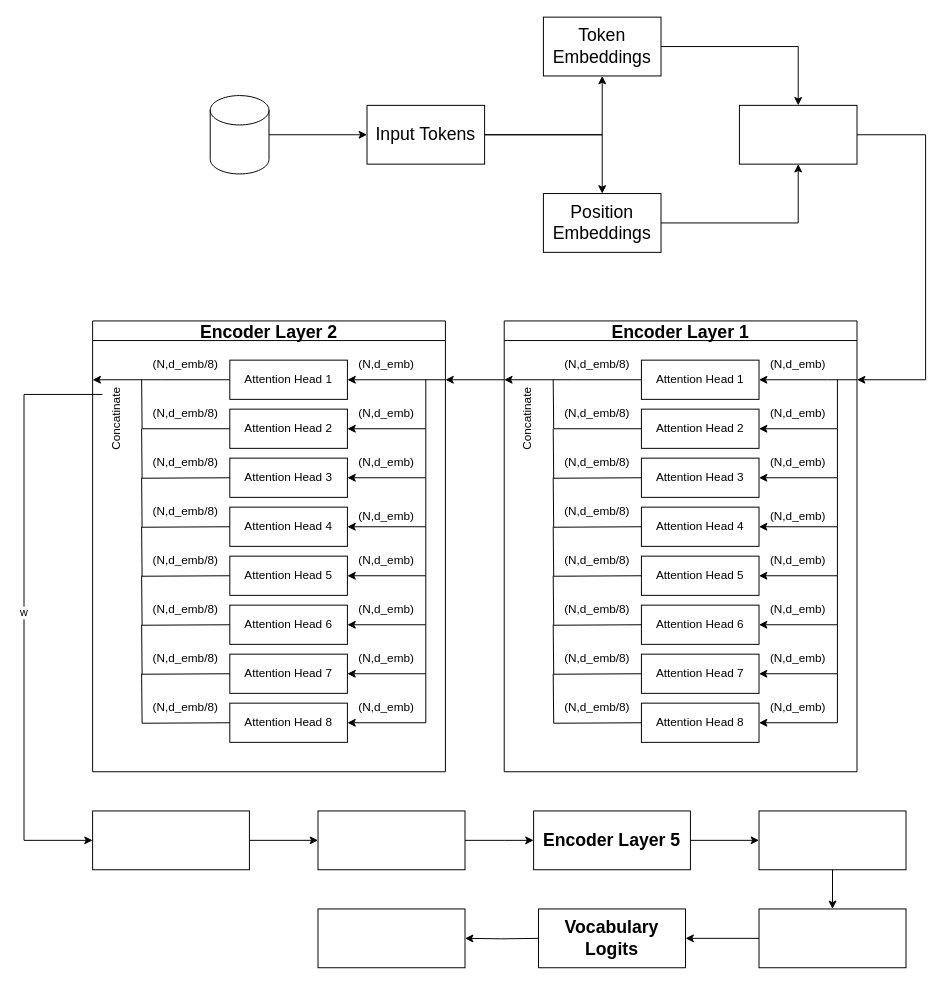
Some shapes in this 951 by 985 pixel diagram are drawn without their labels. The shapes that lost their labels are listed below. From the top down, each one's box as (x1, y1, x2, y2) in pixels, then its label:
(209, 95, 269, 174): Data
(738, 104, 857, 164): Input Embeddings
(92, 810, 249, 870): Encoder Layer 3
(317, 810, 465, 870): Encoder Layer 4
(758, 810, 906, 870): Encoder Layer 6
(317, 908, 465, 968): Prediction
(758, 908, 906, 968): MLM Head (Linear Layer)
